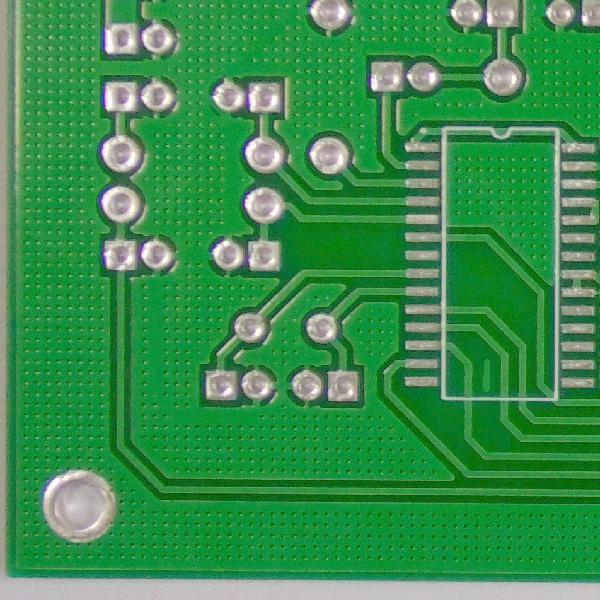spurious_copper: (470, 351, 507, 398)
